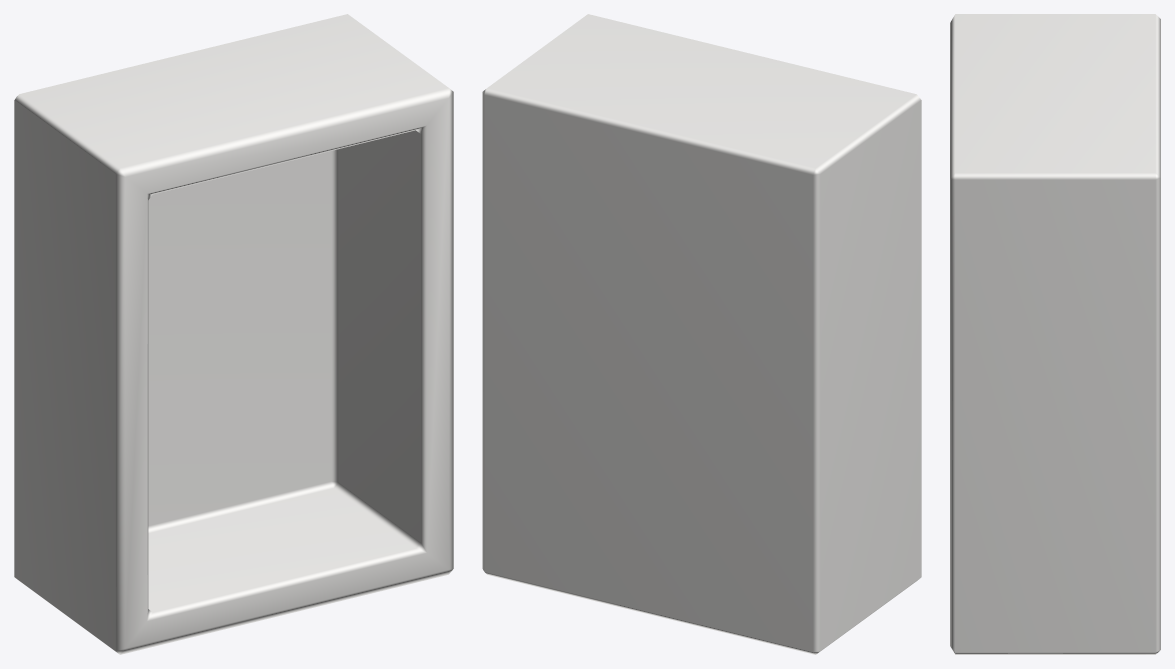
Rendered from Shelf_8.glb.
3 renders of one model, left to right at view 1: azimuth 30°, elevation 25°; view 2: azimuth 150°, elevation 25°; view 3: azimuth 270°, elevation 25°, orthographic.
Visible parts, largest first — view 1: Shelf_8; view 2: Shelf_8; view 3: Shelf_8.
Boxes of the visible parts, x1,y1,x2,y2 form: Shelf_8: (14,14,453,654); Shelf_8: (482,14,921,654); Shelf_8: (950,14,1160,654).
Bounding box in the file's own units: 0.9274 × 1.28 × 0.5059.
1 material, 1 textured.
